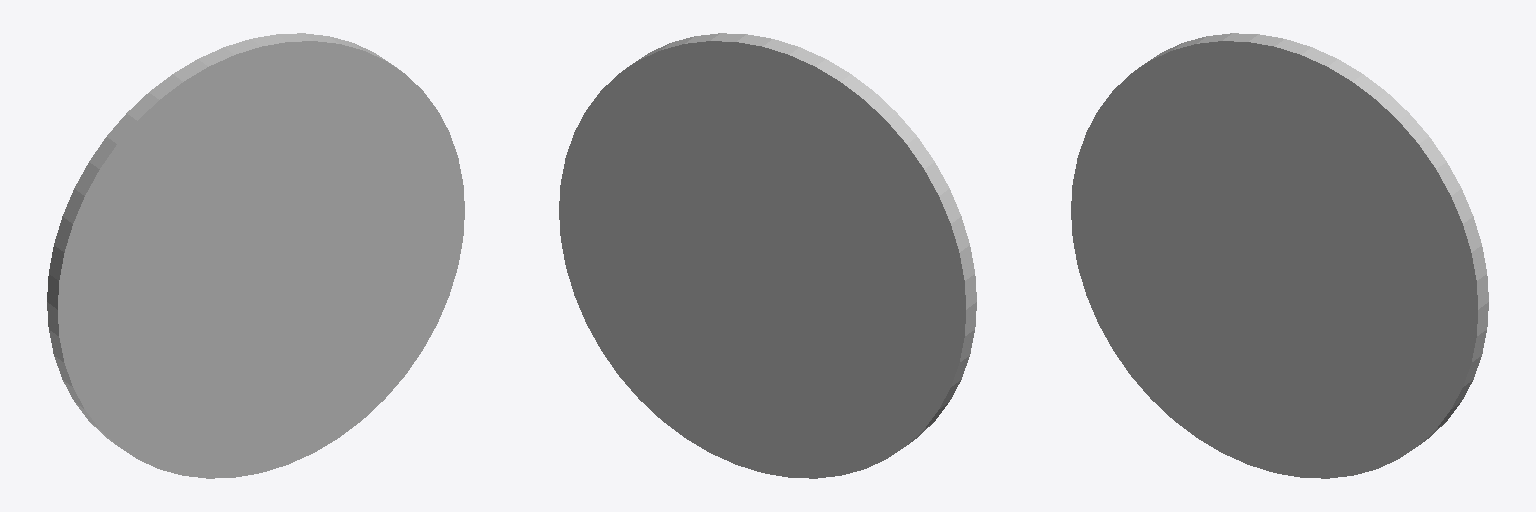
The model's file is money48.obj.
The picture shows the model from 3 angles: view 1: azimuth 30°, elevation 25°; view 2: azimuth 150°, elevation 25°; view 3: azimuth 330°, elevation 25°; orthographic projection.
Parts seen in each view (by area): view 1: 500yen48; view 2: 500yen48; view 3: 500yen48.
Part boxes in pixels (bbox=[...]): 500yen48: bbox=[47, 33, 464, 478]; 500yen48: bbox=[559, 33, 976, 478]; 500yen48: bbox=[1071, 33, 1488, 478].
Bounding box in the file's own units: 26.5 × 26.5 × 1.2.